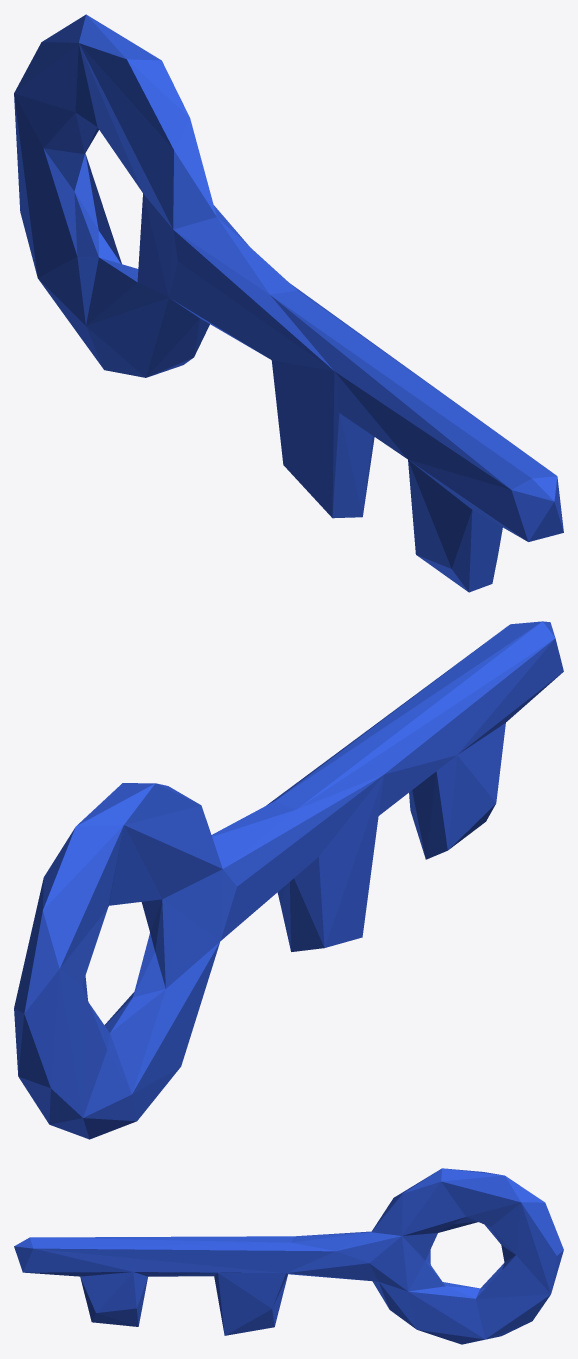
File: key.fbx
3 renders of one model, top to bottom at view 1: azimuth 30°, elevation 25°; view 2: azimuth 150°, elevation 25°; view 3: azimuth 270°, elevation 25°, orthographic. The views are drawn at different scales.
Visible parts, largest first — view 1: Torus.001; view 2: Torus.001; view 3: Torus.001.
Part boxes in pixels (x1,y1,x2,y2): Torus.001: [14, 14, 563, 592]; Torus.001: [14, 621, 563, 1139]; Torus.001: [14, 1168, 563, 1344].
Size of the model in its own units: 29.74 by 158 by 457.
